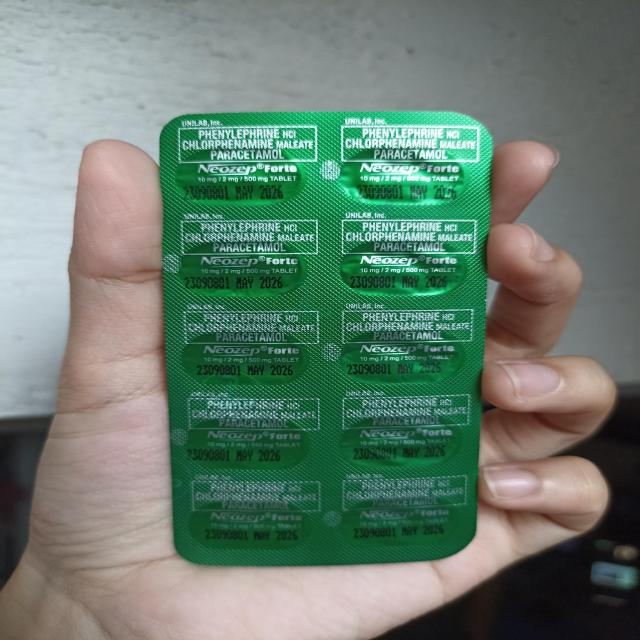Neozep_Strip: (134, 87, 496, 598)
